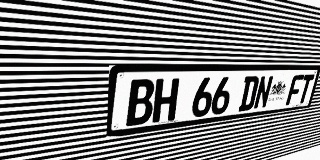6: (191, 77, 216, 118), (210, 77, 234, 115)
B: (126, 79, 155, 126)
D: (238, 76, 260, 112)
F: (285, 75, 304, 105)
H: (152, 78, 180, 123)
N: (253, 75, 274, 110)
T: (296, 74, 315, 104)
